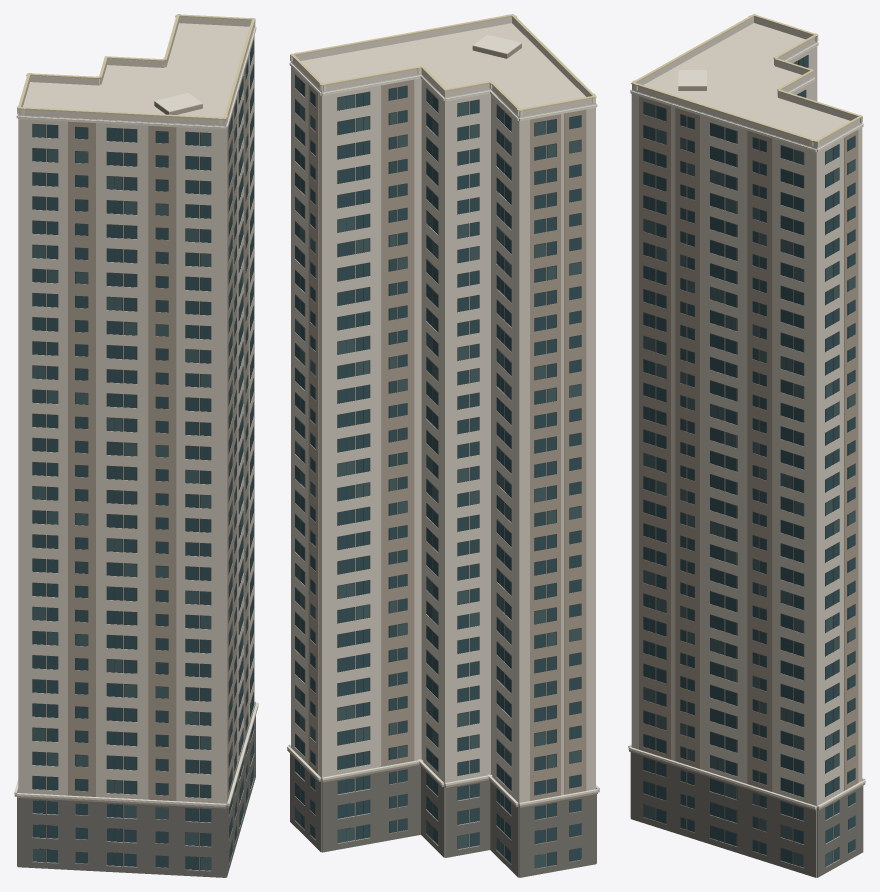
File: bespoke-raemian-prestige-128.glb
3 renders of one model, left to right at view 1: azimuth 30°, elevation 25°; view 2: azimuth 150°, elevation 25°; view 3: azimuth 270°, elevation 25°, orthographic. The views are drawn at different scales.
Visible parts, largest first — view 1: Prestige_warm_ivory_rendered_wall013, Prestige_wide_taupe_pilasters013, Prestige_recessed_blue_green_window013, Prestige_dark_bronze_thin_window_frame013, Prestige_dark_brown_grey_stone_base013, Prestige_muted_green_window_pair013, Prestige_pale_limestone_band013, Prestige_cream_gold_crown_coping013; view 2: Prestige_warm_ivory_rendered_wall013, Prestige_wide_taupe_pilasters013, Prestige_recessed_blue_green_window013, Prestige_dark_bronze_thin_window_frame013, Prestige_dark_brown_grey_stone_base013, Prestige_muted_green_window_pair013, Prestige_pale_limestone_band013, Prestige_cream_gold_crown_coping013; view 3: Prestige_warm_ivory_rendered_wall013, Prestige_wide_taupe_pilasters013, Prestige_recessed_blue_green_window013, Prestige_dark_bronze_thin_window_frame013, Prestige_dark_brown_grey_stone_base013, Prestige_muted_green_window_pair013, Prestige_pale_limestone_band013, Prestige_cream_gold_crown_coping013.
Boxes of the visible parts, x1,y1,x2,y2 form: Prestige_warm_ivory_rendered_wall013: [18, 17, 254, 871]; Prestige_wide_taupe_pilasters013: [14, 56, 258, 868]; Prestige_recessed_blue_green_window013: [33, 47, 253, 869]; Prestige_dark_bronze_thin_window_frame013: [32, 40, 253, 870]; Prestige_dark_brown_grey_stone_base013: [17, 704, 255, 877]; Prestige_muted_green_window_pair013: [33, 41, 253, 870]; Prestige_pale_limestone_band013: [14, 17, 258, 806]; Prestige_cream_gold_crown_coping013: [17, 14, 255, 120]; Prestige_warm_ivory_rendered_wall013: [291, 17, 595, 876]; Prestige_wide_taupe_pilasters013: [287, 44, 599, 869]; Prestige_recessed_blue_green_window013: [295, 81, 581, 865]; Prestige_dark_bronze_thin_window_frame013: [295, 74, 581, 868]; Prestige_dark_brown_grey_stone_base013: [290, 753, 596, 877]; Prestige_muted_green_window_pair013: [295, 75, 581, 868]; Prestige_pale_limestone_band013: [287, 34, 599, 805]; Prestige_cream_gold_crown_coping013: [290, 14, 596, 111]; Prestige_warm_ivory_rendered_wall013: [631, 17, 862, 877]; Prestige_wide_taupe_pilasters013: [628, 86, 865, 855]; Prestige_recessed_blue_green_window013: [643, 55, 855, 863]; Prestige_dark_bronze_thin_window_frame013: [643, 55, 855, 867]; Prestige_dark_brown_grey_stone_base013: [630, 752, 863, 877]; Prestige_muted_green_window_pair013: [643, 61, 855, 867]; Prestige_pale_limestone_band013: [628, 36, 865, 808]; Prestige_cream_gold_crown_coping013: [631, 14, 862, 142].
Size of the model in its own units: 33.29 by 87.7 by 25.66.
